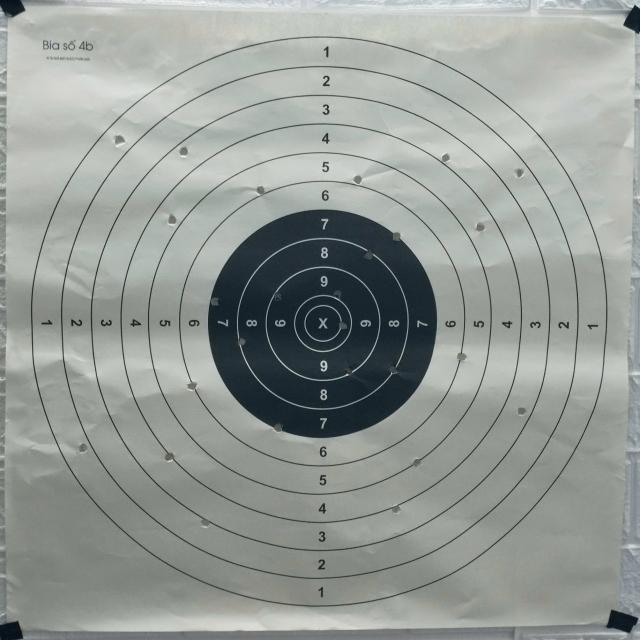bullet: (456, 352, 468, 364), (516, 408, 528, 416), (352, 176, 364, 184), (76, 444, 88, 452), (364, 252, 375, 260), (200, 520, 211, 528), (165, 452, 172, 464), (440, 156, 452, 163), (210, 297, 219, 306), (389, 365, 397, 374), (339, 321, 347, 330), (168, 216, 176, 224), (256, 188, 264, 196), (116, 136, 124, 144), (476, 224, 484, 232), (516, 168, 524, 176), (188, 384, 196, 392), (344, 368, 352, 376), (412, 460, 420, 468), (180, 148, 188, 156), (392, 232, 400, 239), (272, 424, 280, 431), (392, 508, 399, 515), (240, 336, 244, 348), (336, 288, 340, 299), (276, 292, 280, 300)
target: (4, 12, 616, 631)
